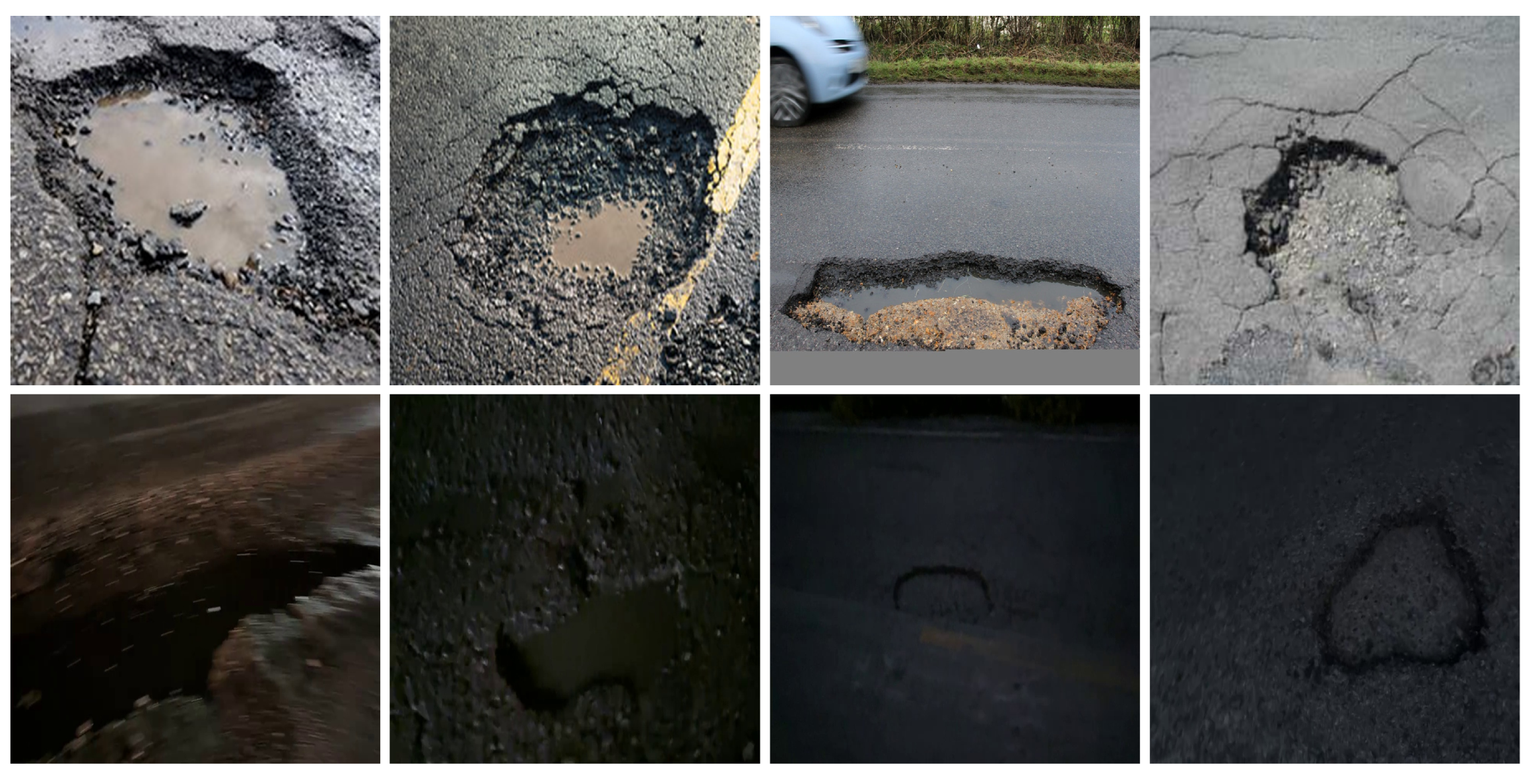Hole_in_the_road: (35, 44, 351, 325), (414, 71, 720, 330), (82, 506, 370, 722), (428, 536, 707, 728), (1263, 497, 1505, 710), (786, 235, 1127, 354), (1226, 110, 1428, 305), (834, 521, 1025, 653)
